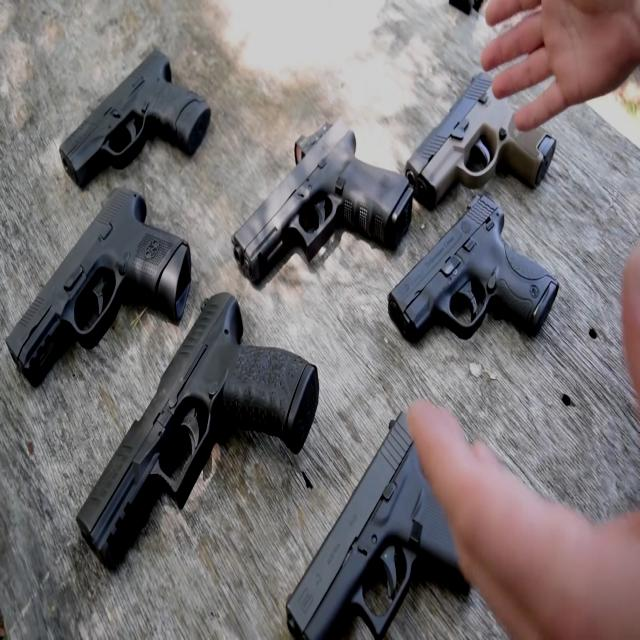handgun: (80, 280, 330, 556), (273, 388, 507, 638), (8, 178, 195, 392), (228, 115, 420, 288), (58, 27, 222, 222), (392, 200, 562, 356), (396, 60, 564, 192)
